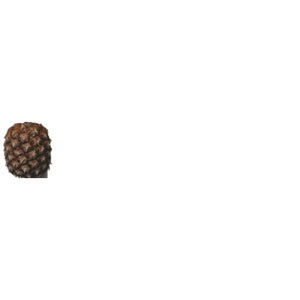abacaxi: (2, 120, 54, 180)
